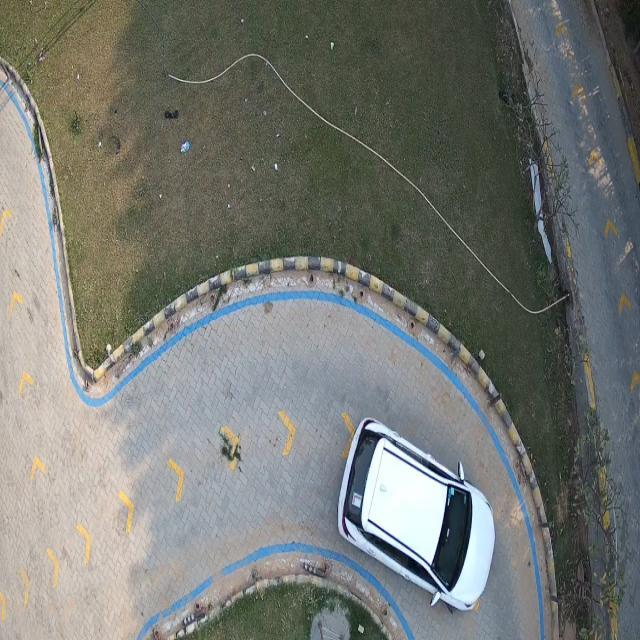car: (338, 418, 495, 611)
